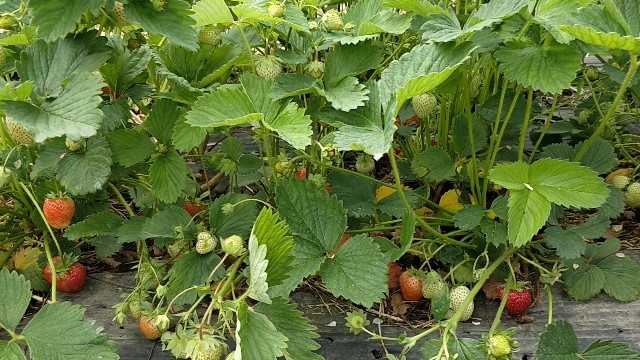strawberry: (43, 251, 87, 295), (496, 280, 534, 316)
